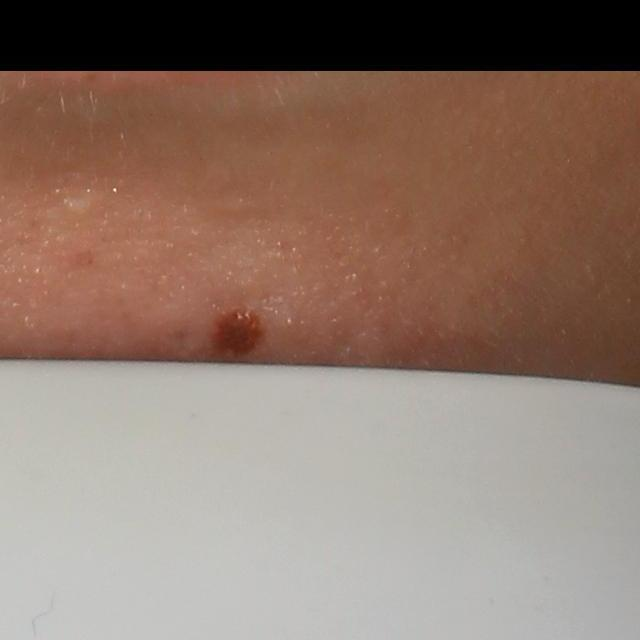hypertrophic_scar: (53, 195, 106, 220)
nevus: (216, 310, 264, 353)
